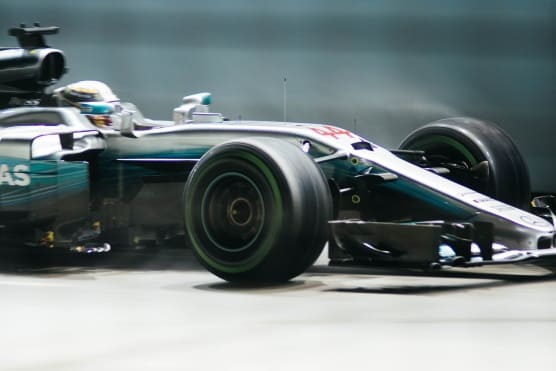car: (0, 19, 556, 284)
